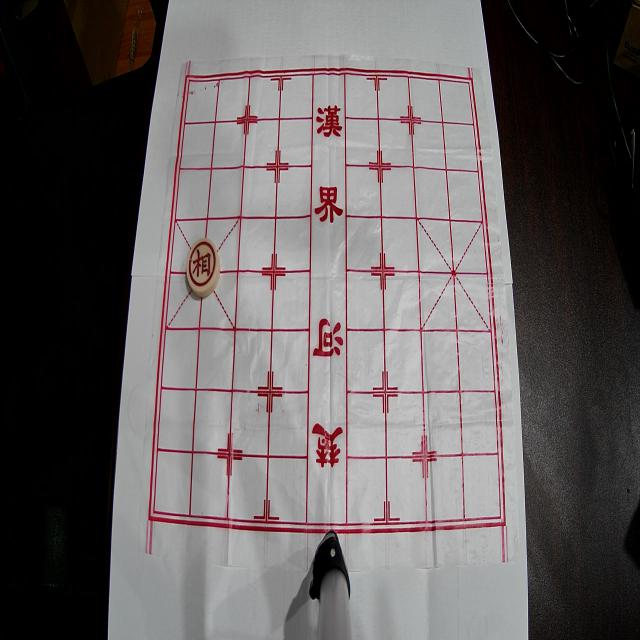red-elephant: (187, 238, 220, 297)
